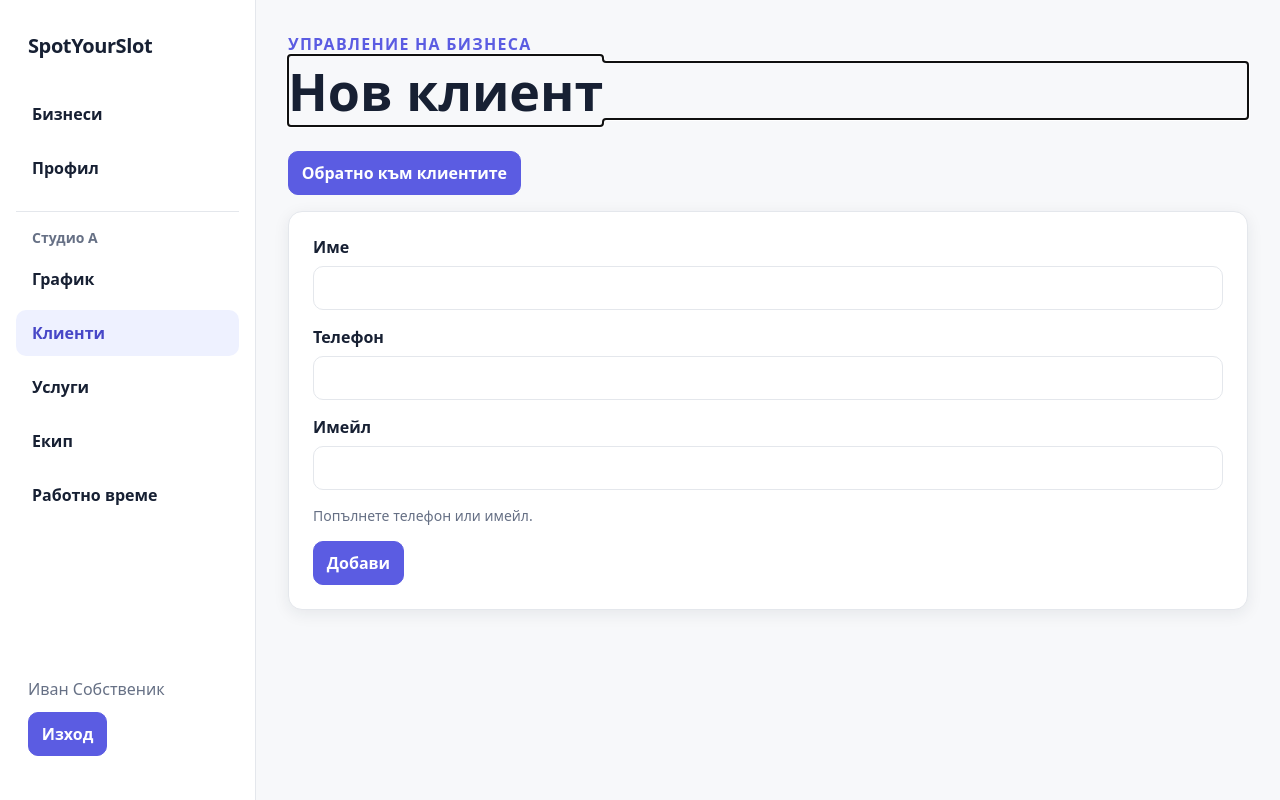
Test: a lost Business context on every Business-scoped screen › Customers create: a mutation that finds the context lost recovers, but only after the guard allows it
In the field labelled "Име": point(768, 288) top-left (313, 266), bottom-right (1223, 310), type "Мария"
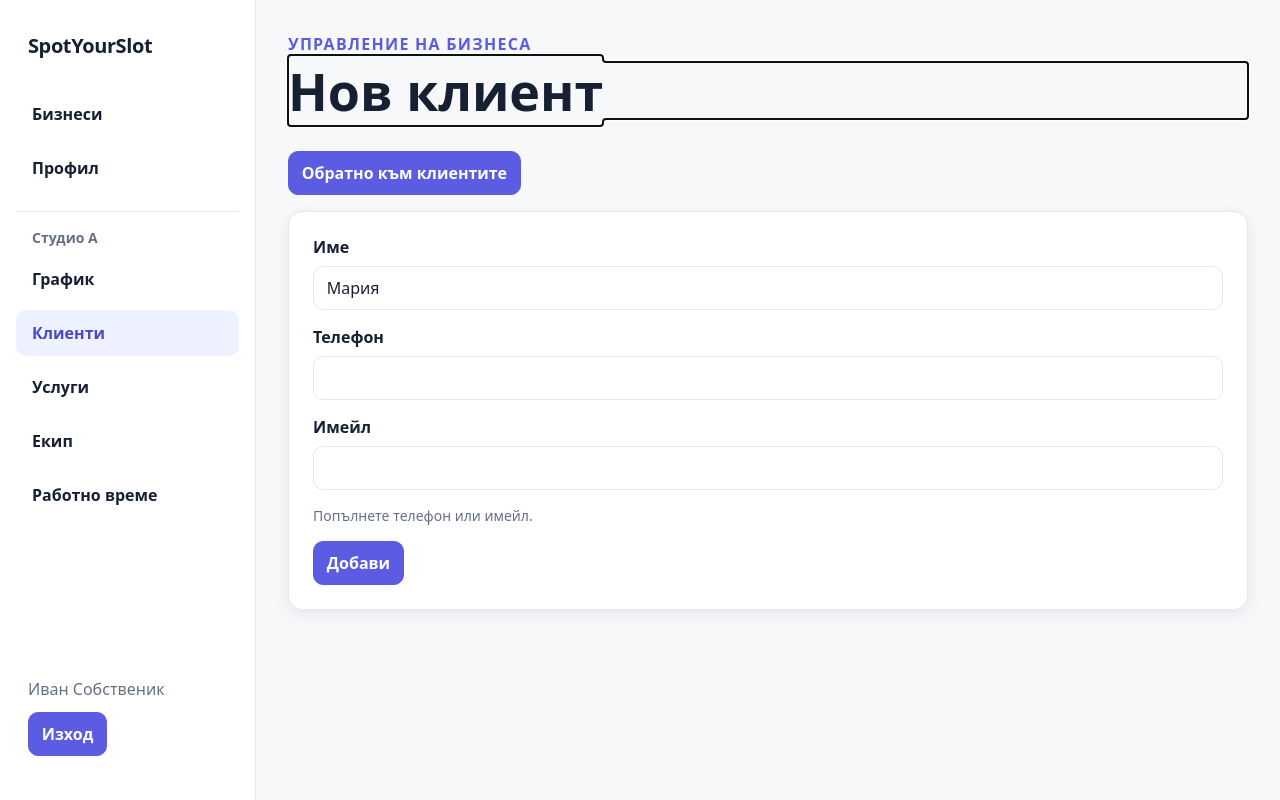
In the field labelled "Имейл": point(768, 468) top-left (313, 446), bottom-right (1223, 490), type "maria@example.test"
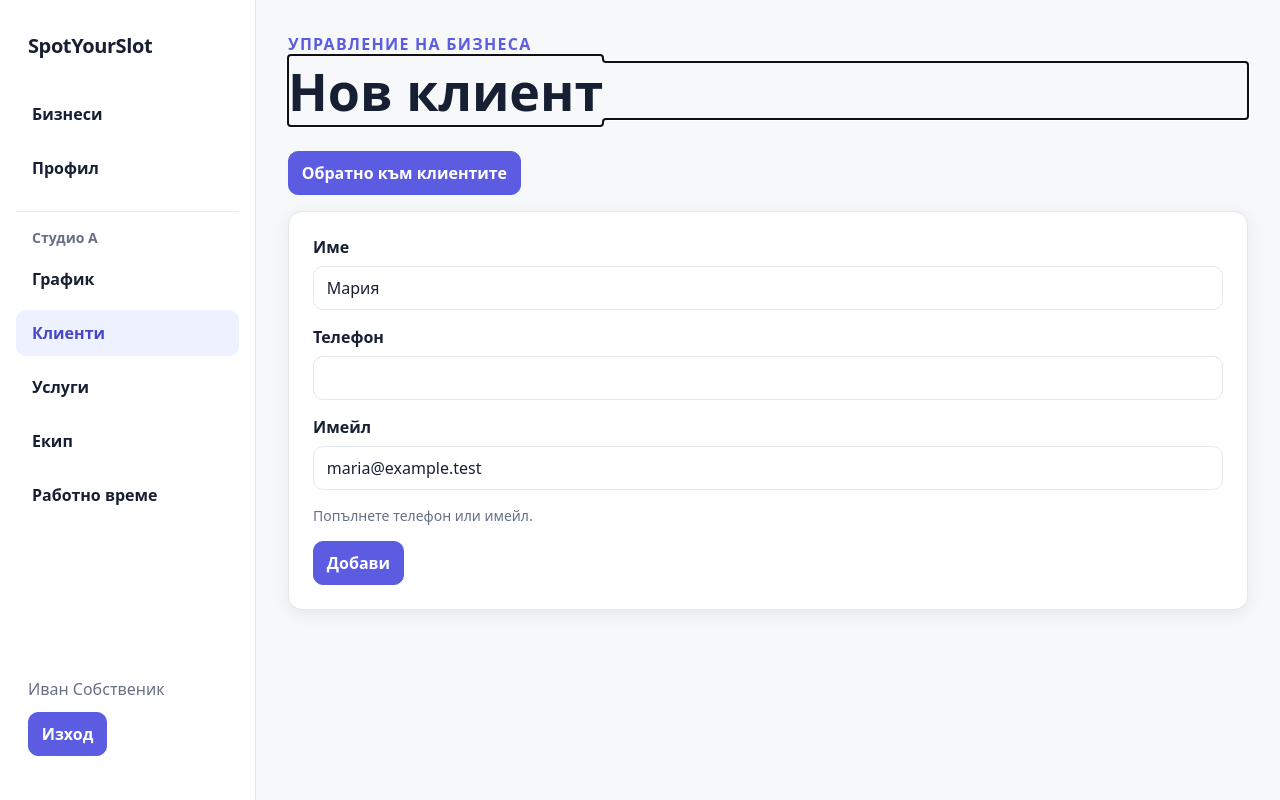
Click the button "Добави": point(358, 563) top-left (313, 541), bottom-right (404, 585)
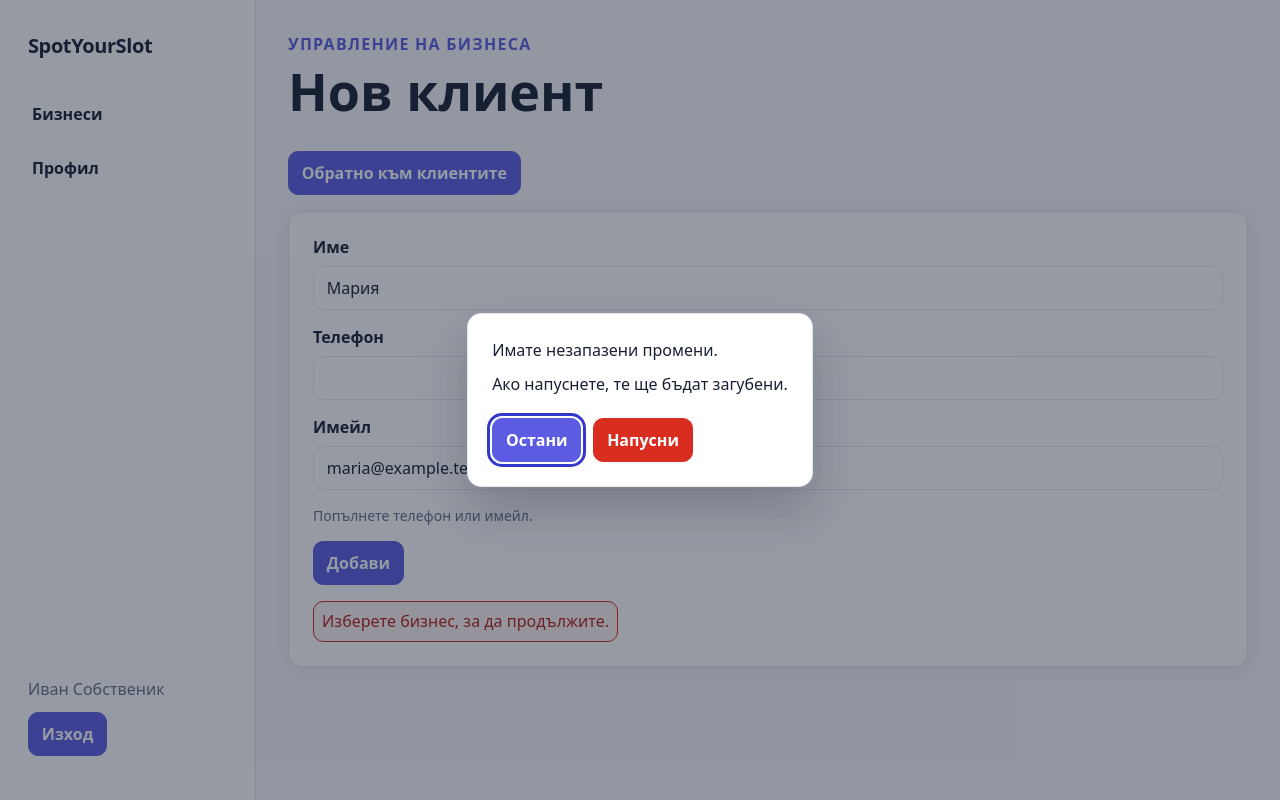
Now the dialog shows "Имате незапазени промени.", box top-left (492, 339), bottom-right (718, 361)
Click the button "Остани": point(537, 440) top-left (492, 418), bottom-right (581, 462)
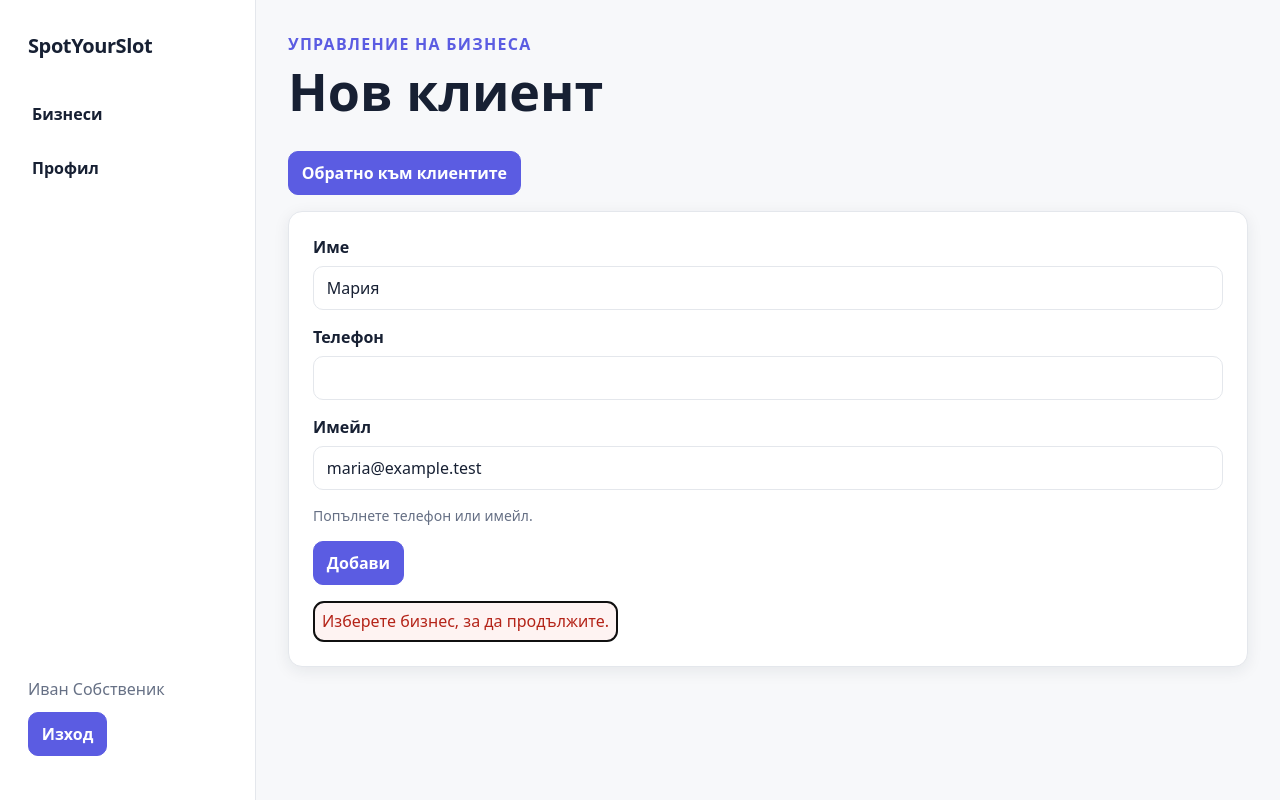
Now the dialog is gone
Click the link "Бизнеси": point(67, 114) top-left (32, 103), bottom-right (102, 125)
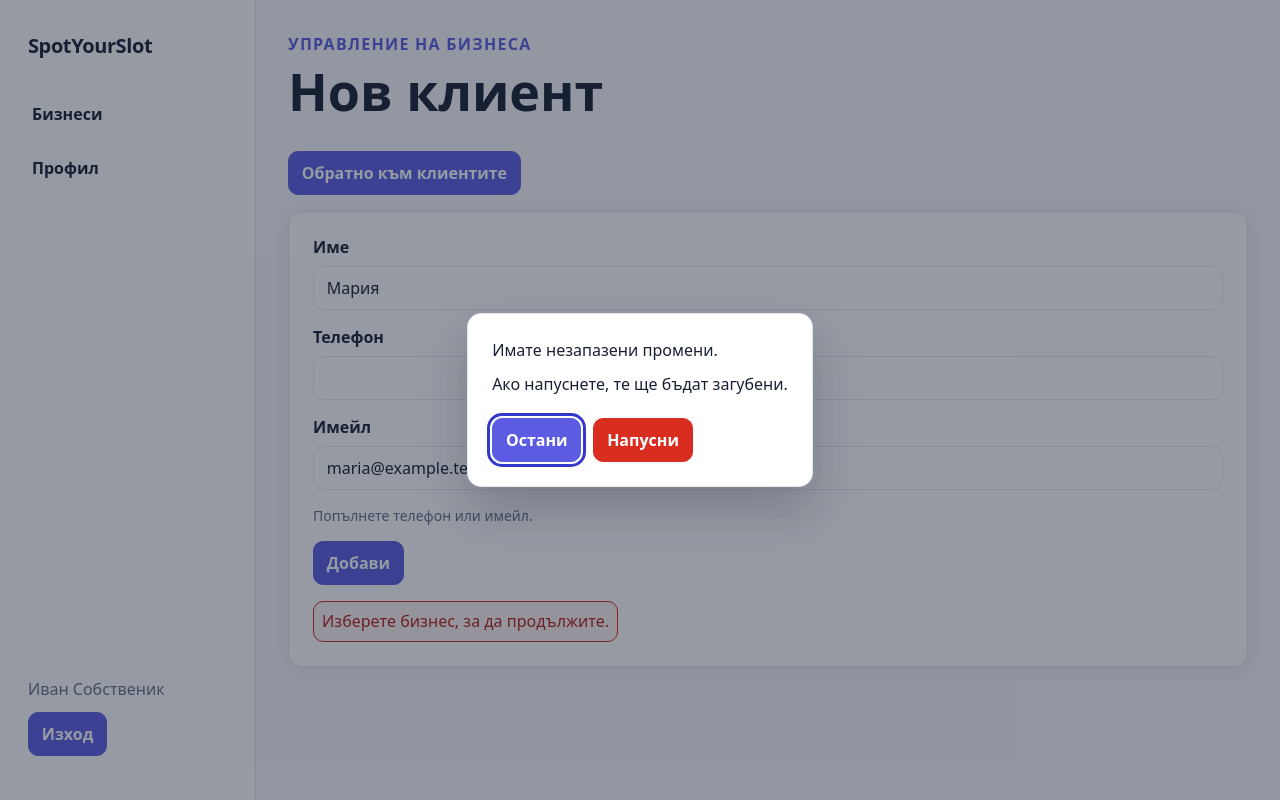
Click the button "Напусни": point(643, 440) top-left (593, 418), bottom-right (693, 462)
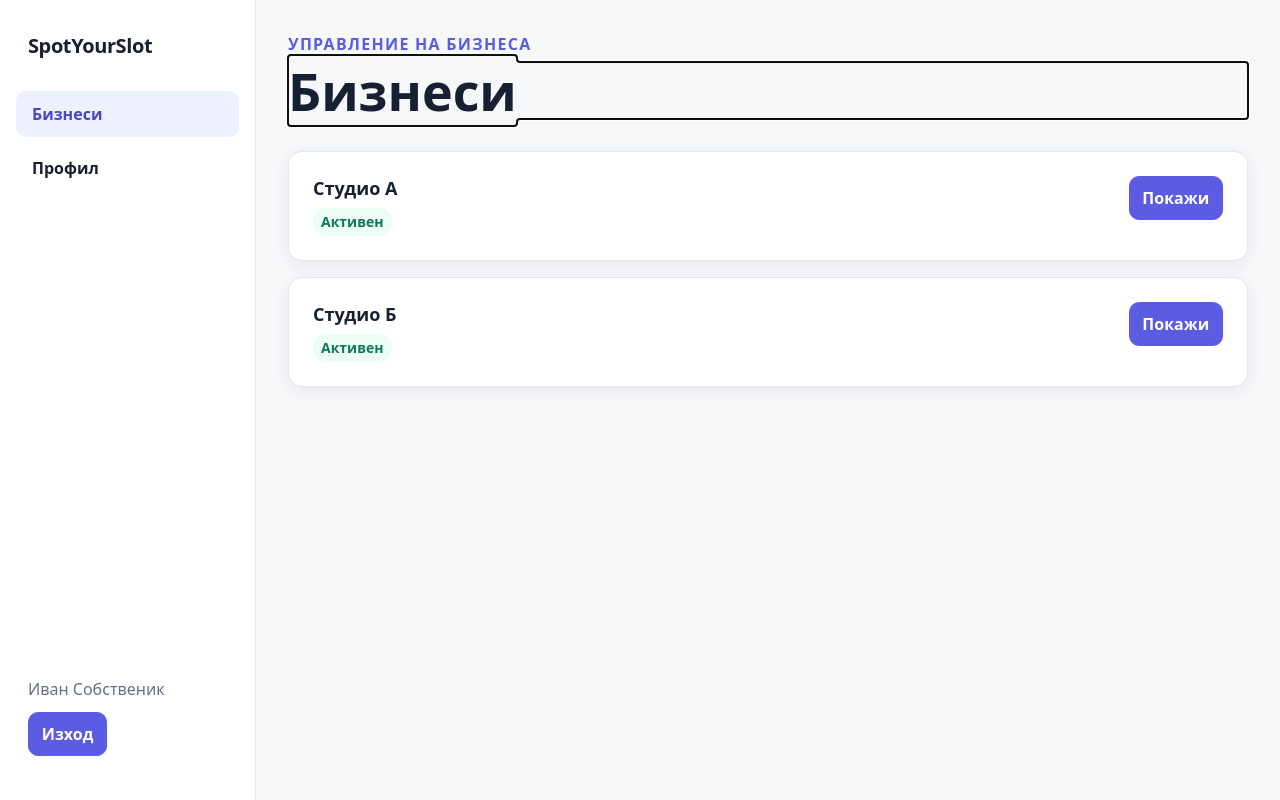
Now the heading "Бизнеси" is shown, box top-left (288, 55), bottom-right (517, 126)
